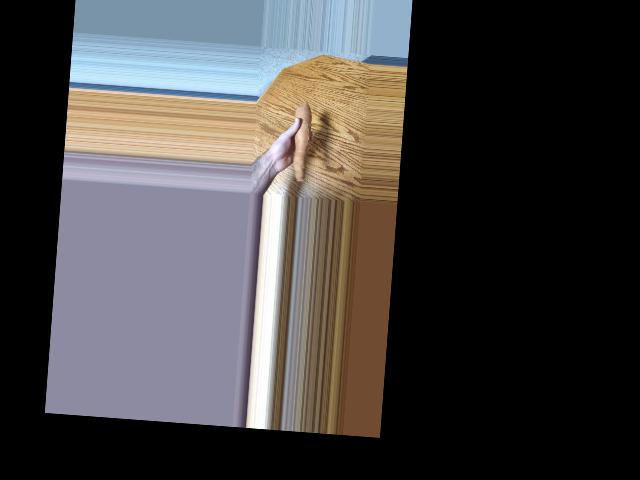sweet_potato: (287, 105, 315, 182)
